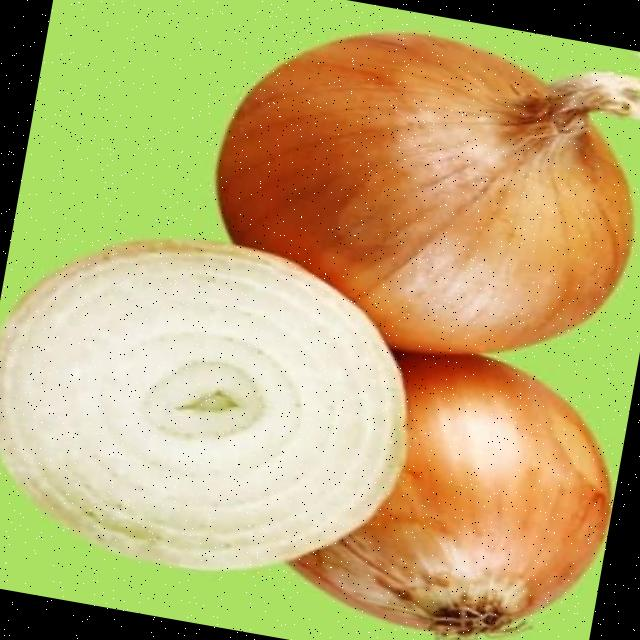Onion: (216, 33, 640, 353), (291, 354, 609, 638)
